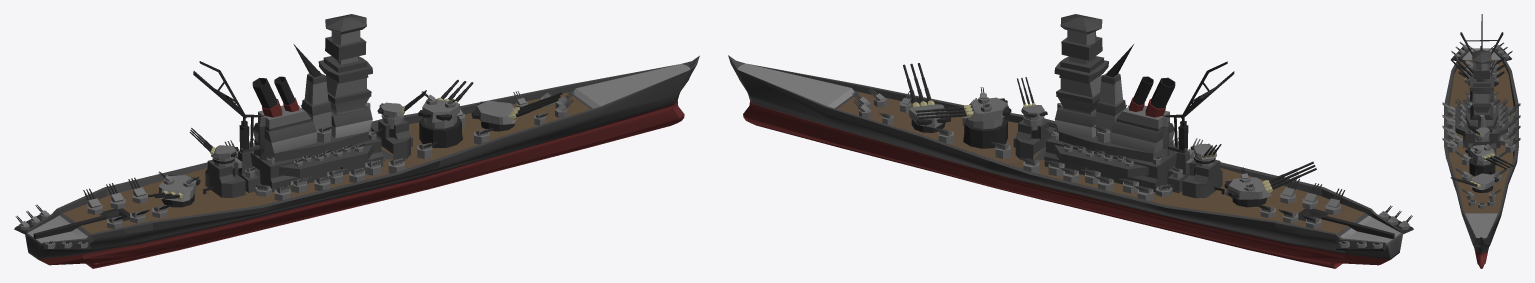
The model's file is FMP_HMS_Dreadnought_Final_Shaded.fbx.
3 views of the same model, side by side, from view 1: azimuth 30°, elevation 25°; view 2: azimuth 150°, elevation 25°; view 3: azimuth 270°, elevation 25° (orthographic). The views are drawn at different scales.
Visible parts, largest first — view 1: pCube34; view 2: pCube34; view 3: pCube34.
Part boxes in pixels (<box>): pCube34: <box>14,14,699,268</box>; pCube34: <box>728,14,1413,268</box>; pCube34: <box>1442,14,1520,268</box>.
Size of the model in its own units: 5478 by 1447 by 891.
